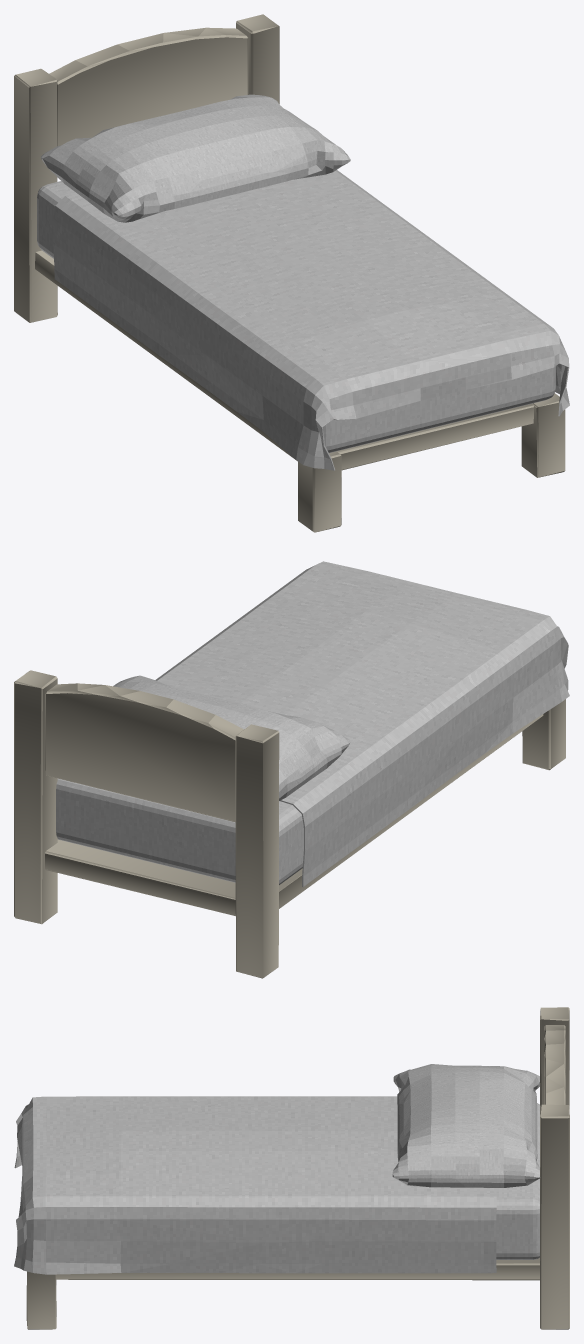
File: bed.glb
3 views of the same model, one above another, from view 1: azimuth 30°, elevation 25°; view 2: azimuth 150°, elevation 25°; view 3: azimuth 270°, elevation 25° (orthographic). The views are drawn at different scales.
Visible parts, largest first — view 1: Sheet_Apt_01, Bed_Apt_01, Pillow_Apt_01, Mattress_Apt_01; view 2: Sheet_Apt_01, Bed_Apt_01, Mattress_Apt_01, Pillow_Apt_01; view 3: Sheet_Apt_01, Pillow_Apt_01, Bed_Apt_01, Mattress_Apt_01.
Boxes of the visible parts, x1,y1,x2,y2 form: Sheet_Apt_01: (53,170,569,470); Bed_Apt_01: (14,14,565,532); Pillow_Apt_01: (41,94,350,222); Mattress_Apt_01: (37,181,555,452); Sheet_Apt_01: (155,561,569,886); Bed_Apt_01: (14,670,565,978); Mattress_Apt_01: (56,778,303,884); Pillow_Apt_01: (113,675,350,800); Sheet_Apt_01: (14,1096,496,1274); Pillow_Apt_01: (392,1064,540,1187); Bed_Apt_01: (26,1007,569,1329); Mattress_Apt_01: (496,1103,539,1259).
Bounding box in the file's own units: 1.1 × 0.966 × 2.2.
Materials: 3 (2 with a texture image).
